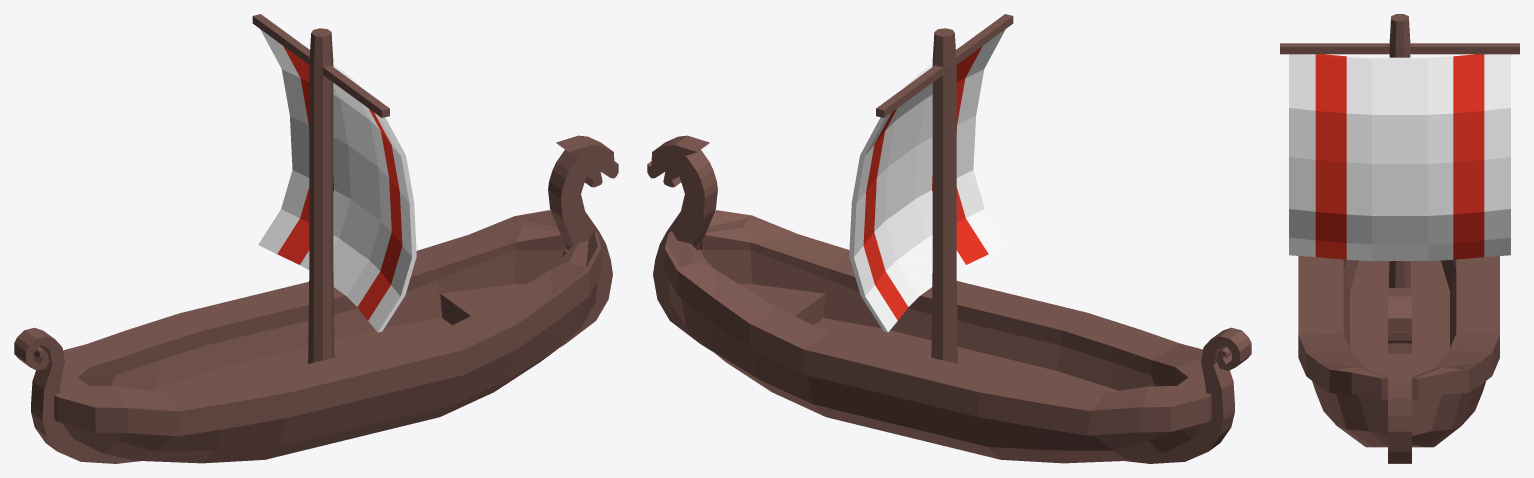
File: Boat2.fbx
The picture shows the model from 3 angles, left to right: view 1: azimuth 30°, elevation 25°; view 2: azimuth 150°, elevation 25°; view 3: azimuth 270°, elevation 25°; orthographic projection. The views are drawn at different scales.
Parts seen in each view (by area): view 1: Cylinder; view 2: Cylinder; view 3: Cylinder.
Part boxes in pixels (x1=…): Cylinder: x1=14, y1=14, x2=618, y2=463; Cylinder: x1=647, y1=14, x2=1251, y2=463; Cylinder: x1=1280, y1=14, x2=1519, y2=463.
Size of the model in its own units: 2029 by 1255 by 767.
